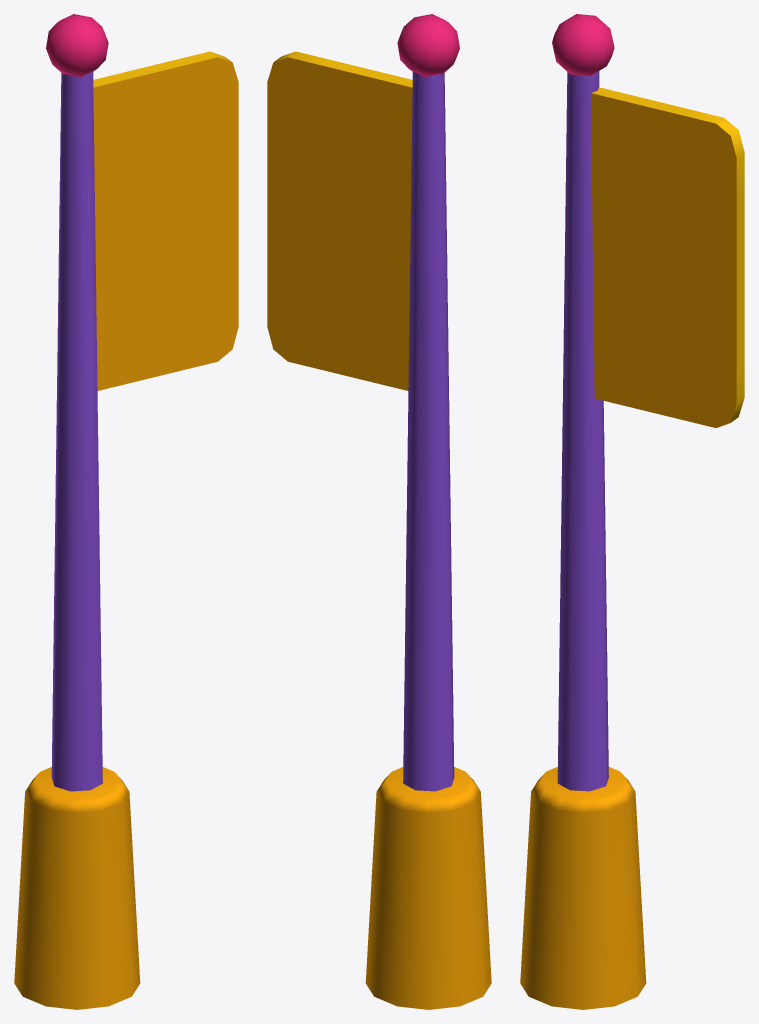
The model's file is flag_001.fbx.
3 renders of one model, left to right at view 1: azimuth 30°, elevation 25°; view 2: azimuth 150°, elevation 25°; view 3: azimuth 330°, elevation 25°, orthographic.
Visible parts, largest first — view 1: flag_001; view 2: flag_001; view 3: flag_001.
Boxes of the visible parts, <box> form: flag_001: <box>14,14,238,1009</box>; flag_001: <box>267,14,491,1009</box>; flag_001: <box>520,14,744,1009</box>.
Bounding box in the file's own units: 109 × 56.06 × 474.
